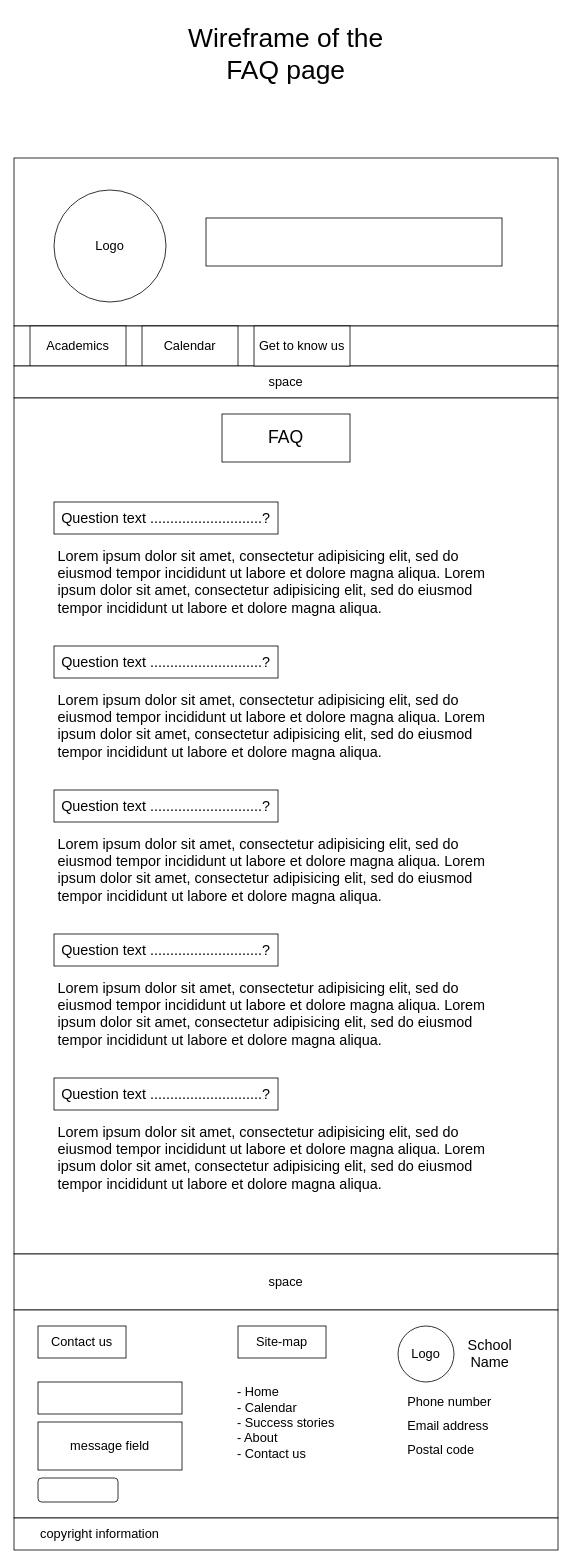
Some shapes in this 572 by 1564 pixel diagram are drawn without their labels. Each missing label, with the centre of its shape:
email field: (109,1397)
Moto: (353,241)
submit: (77,1489)
